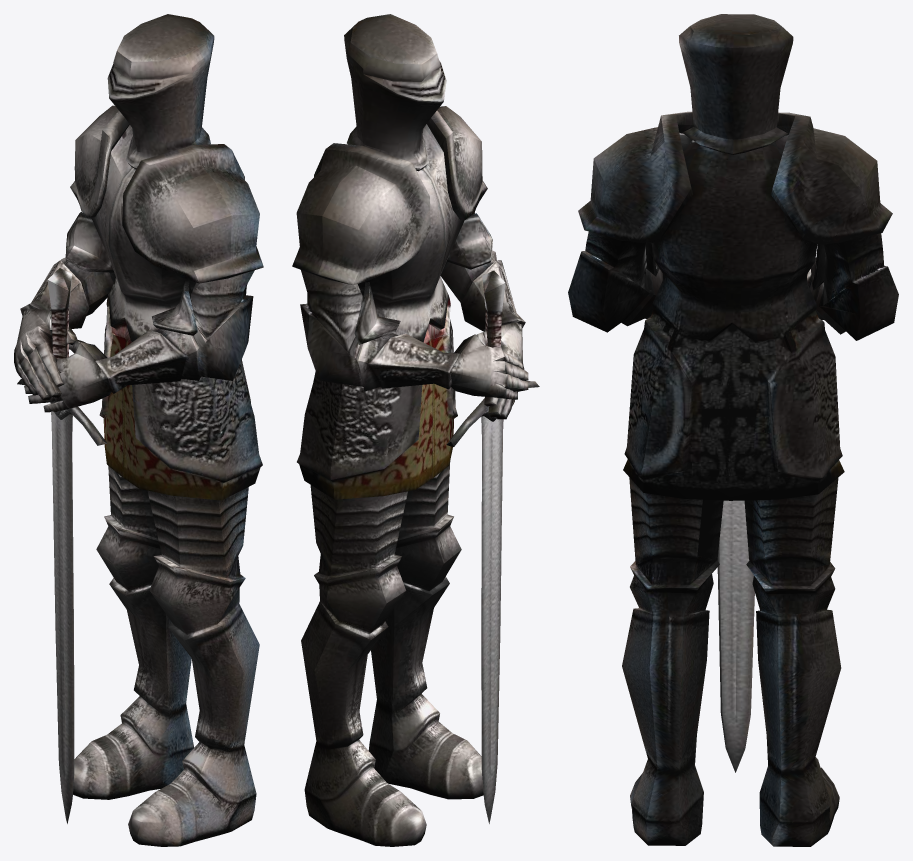
File: knight1.dae
The picture shows the model from 3 angles, left to right: view 1: azimuth 30°, elevation 25°; view 2: azimuth 150°, elevation 25°; view 3: azimuth 270°, elevation 25°; orthographic projection. The views are drawn at different scales.
Parts seen in each view (by area): view 1: Box03; view 2: Box03; view 3: Box03.
Boxes of the visible parts, x1,y1,x2,y2 form: Box03: (14, 14, 263, 846); Box03: (292, 14, 539, 846); Box03: (568, 14, 898, 846).
Bounding box in the file's own units: 1.48 × 2.09 × 5.64.
1 material, 1 textured.
